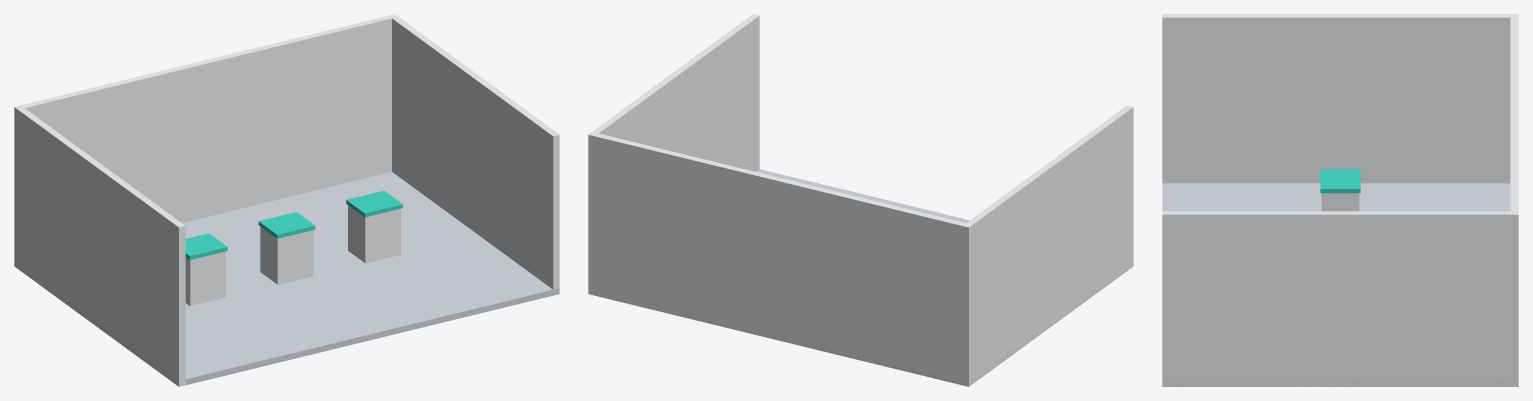
3 views of the same model, side by side, from view 1: azimuth 30°, elevation 25°; view 2: azimuth 150°, elevation 25°; view 3: azimuth 270°, elevation 25° (orthographic). The views are drawn at different scales.
Parts seen in each view (by area): view 1: Exhibition Booth Concept; view 2: Exhibition Booth Concept; view 3: Exhibition Booth Concept.
Part boxes in pixels (x1,y1,x2,y2): Exhibition Booth Concept: [14, 14, 559, 386]; Exhibition Booth Concept: [588, 14, 1133, 386]; Exhibition Booth Concept: [1162, 14, 1518, 386].
Size of the model in its own units: 8 by 3.2 by 6.
